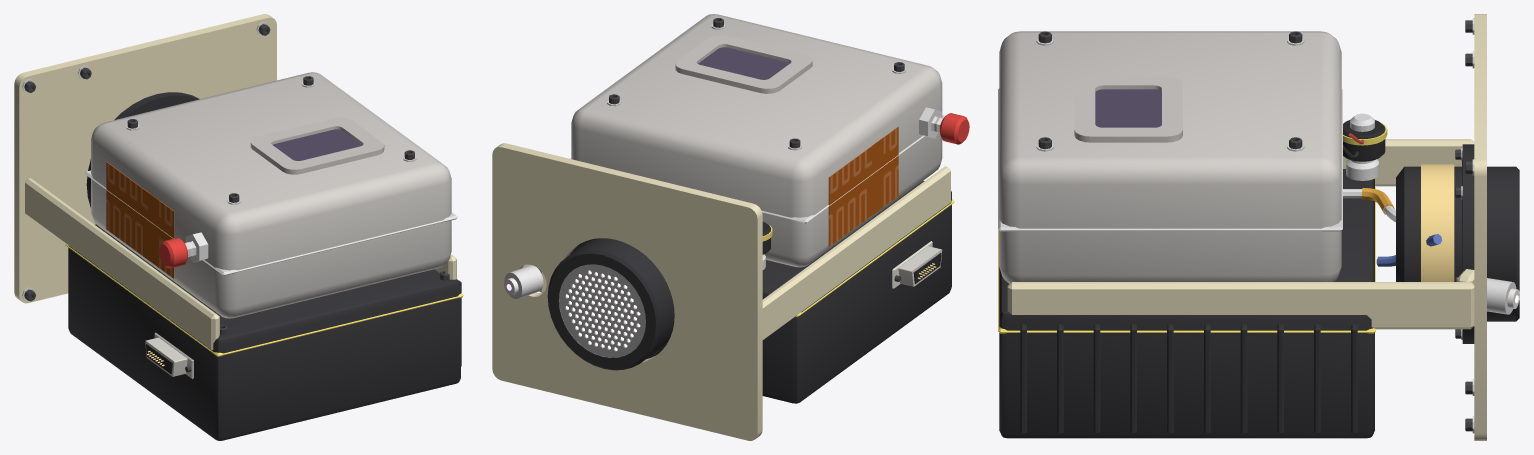
File: ion_engine.glb
3 renders of one model, left to right at view 1: azimuth 30°, elevation 25°; view 2: azimuth 150°, elevation 25°; view 3: azimuth 270°, elevation 25°, orthographic. The views are drawn at different scales.
Visible parts, largest first — view 1: iodine_tank, ppu, ion_engine, thruster_head; view 2: ion_engine, iodine_tank, ppu, thruster_head, neutralizer; view 3: iodine_tank, ppu, ion_engine, thruster_head, neutralizer.
Boxes of the visible parts, x1,y1,x2,y2 form: iodine_tank: (84, 72, 457, 318); ppu: (65, 224, 463, 440); ion_engine: (14, 14, 456, 350); thruster_head: (86, 92, 199, 207); ion_engine: (492, 143, 950, 440); iodine_tank: (570, 14, 969, 267); ppu: (762, 181, 954, 403); thruster_head: (547, 238, 674, 370); neutralizer: (504, 265, 546, 299); iodine_tank: (998, 31, 1342, 283); ppu: (998, 169, 1375, 438); ion_engine: (1007, 14, 1486, 440); thruster_head: (1396, 144, 1519, 343); neutralizer: (1457, 269, 1519, 314).
Bounding box in the file's own units: 0.097 × 0.0742 × 0.125.
Materials: 23 (1 with a texture image).
